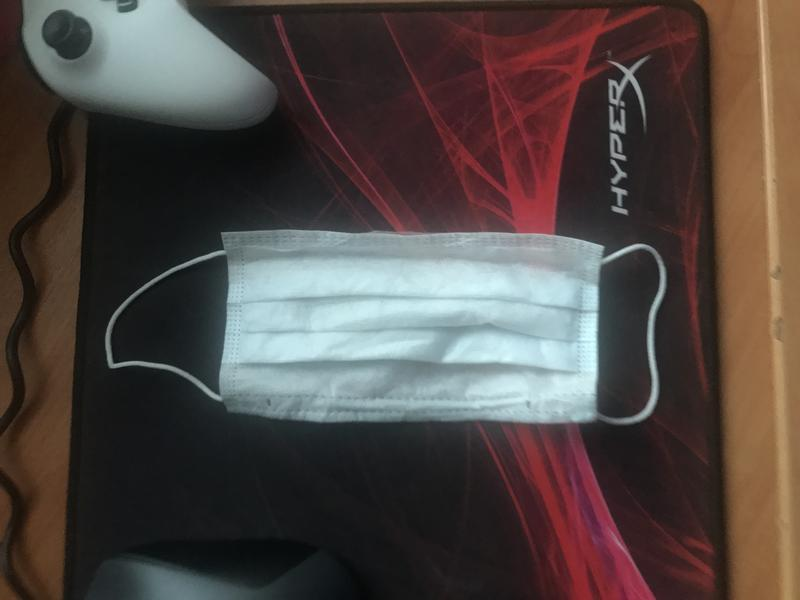medical_mask: (104, 237, 667, 424)
